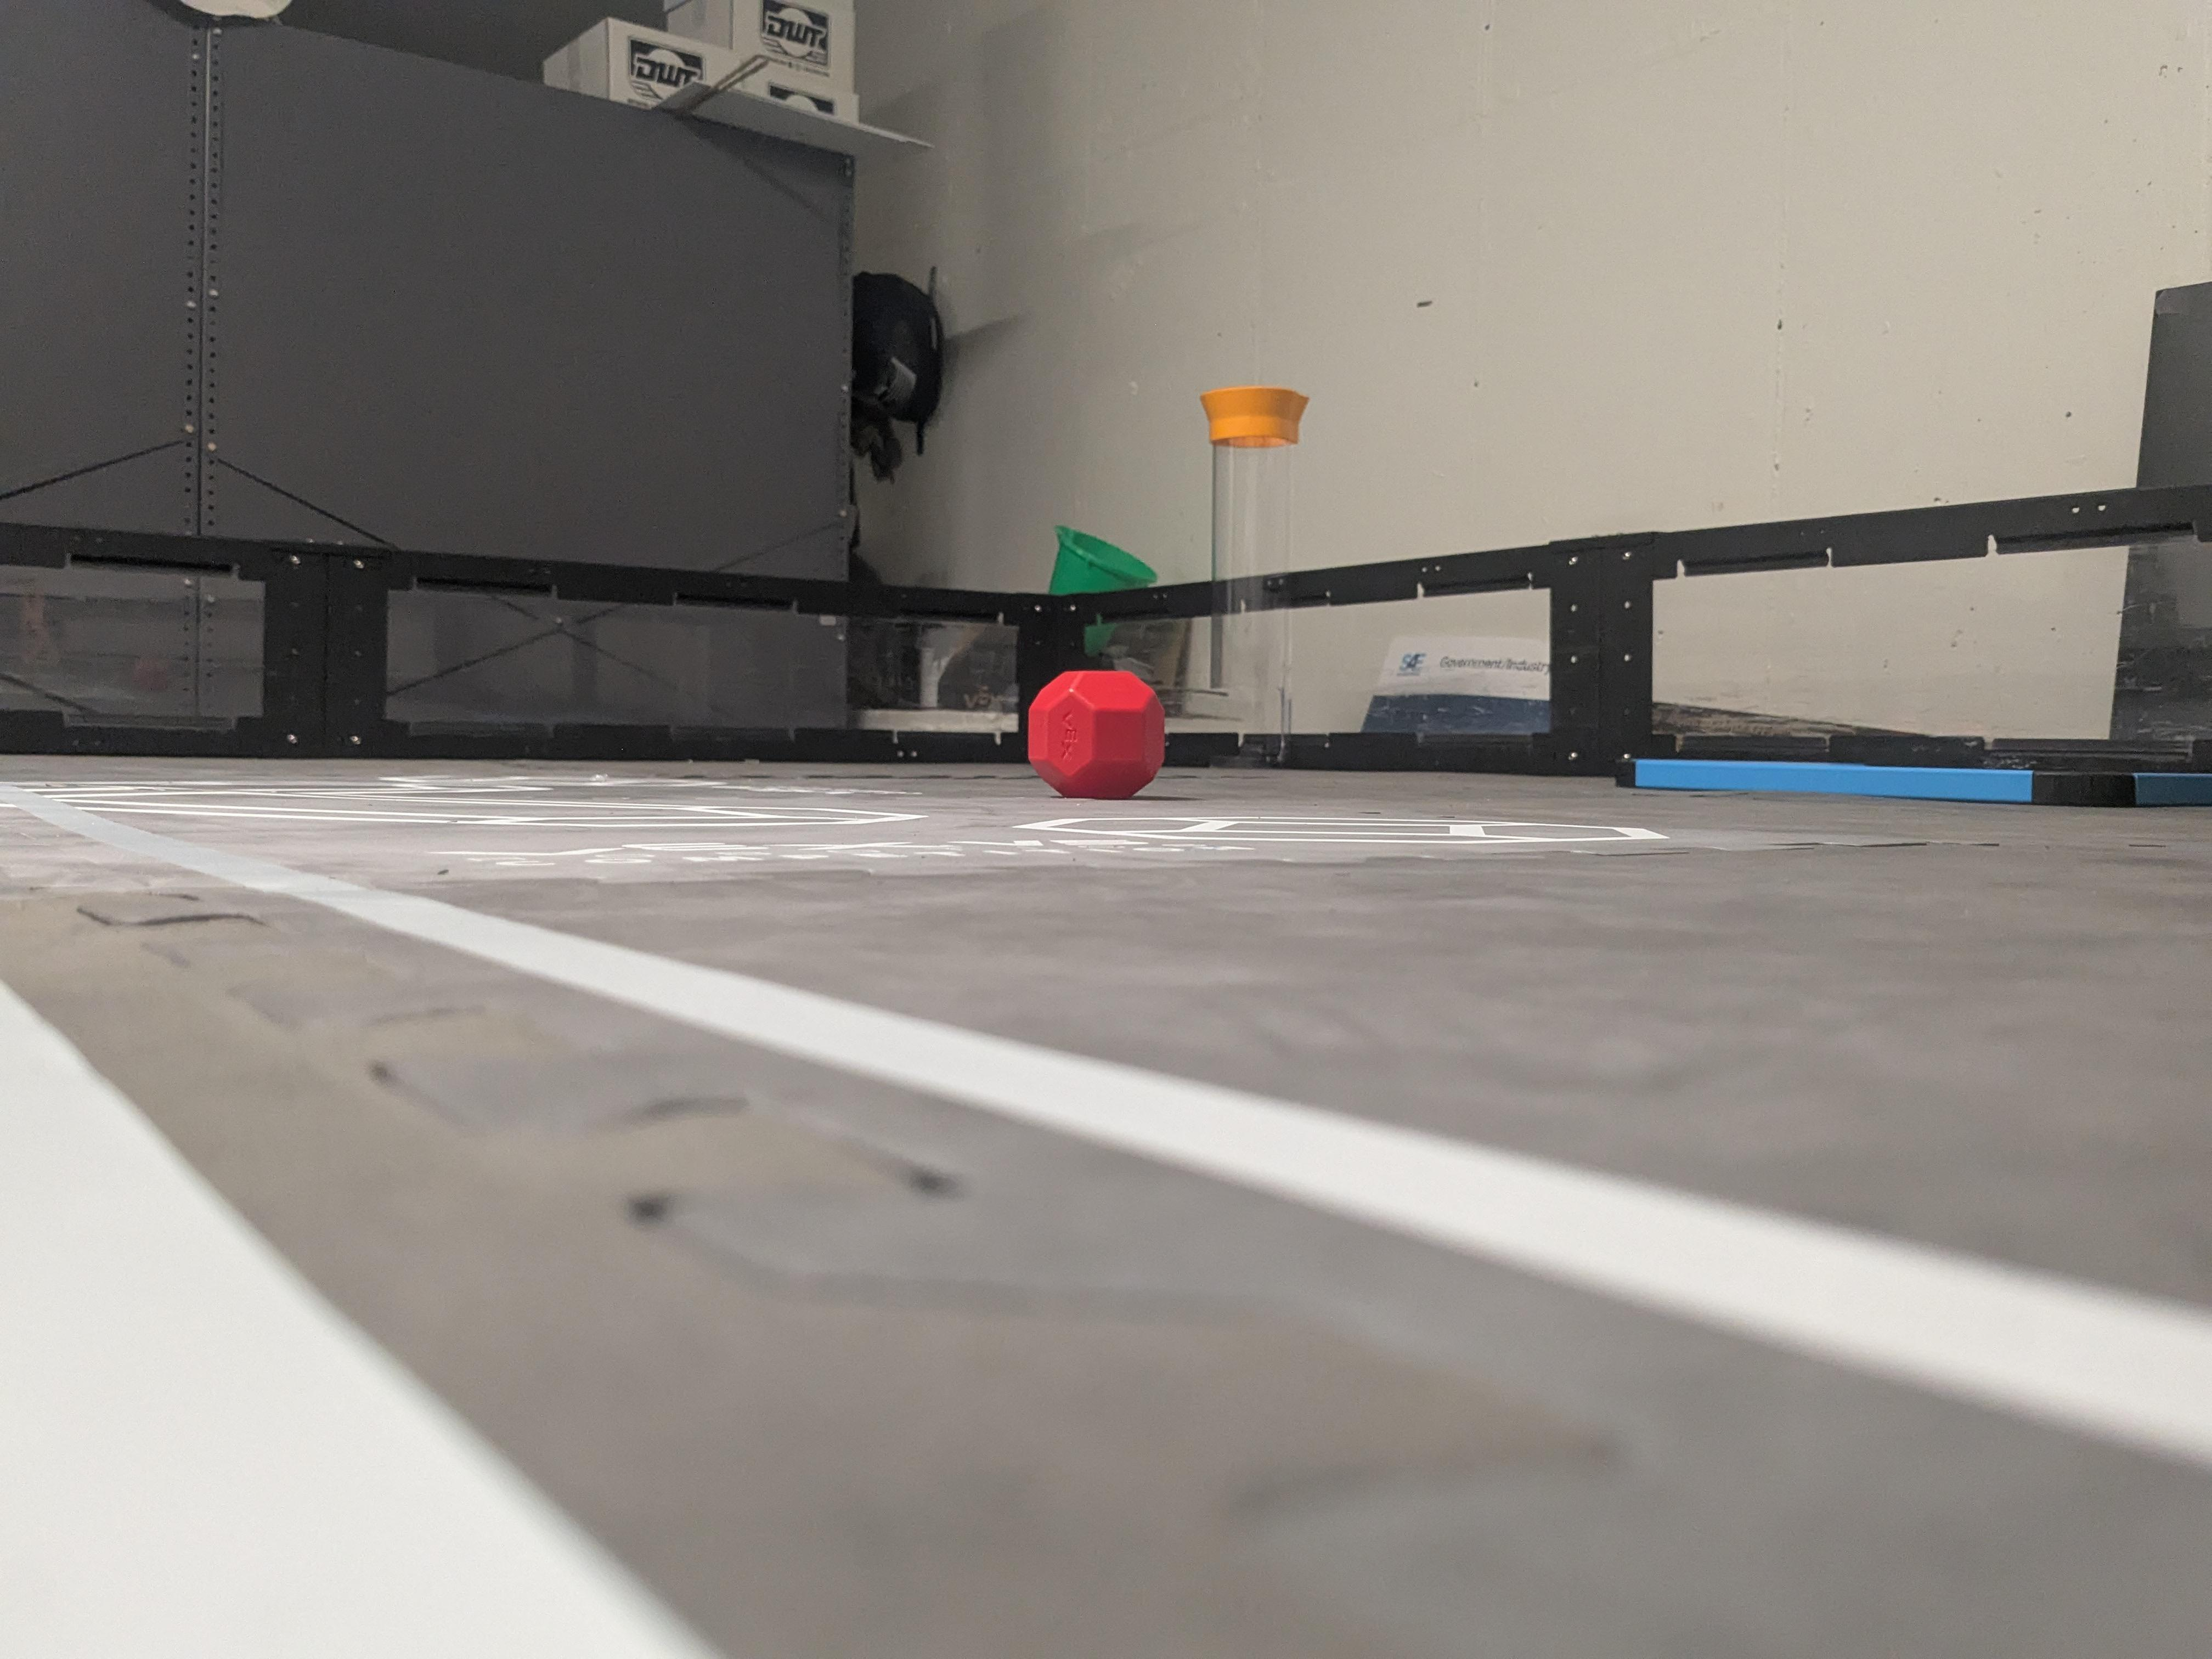Vex-Pieces-RED: (1029, 673, 1165, 795)
